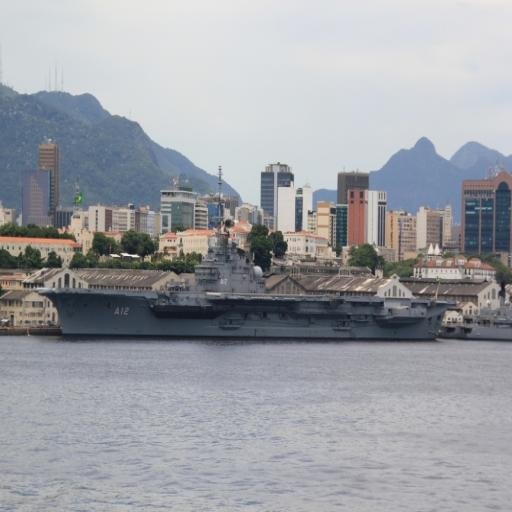Portanaves: (32, 168, 453, 347)
